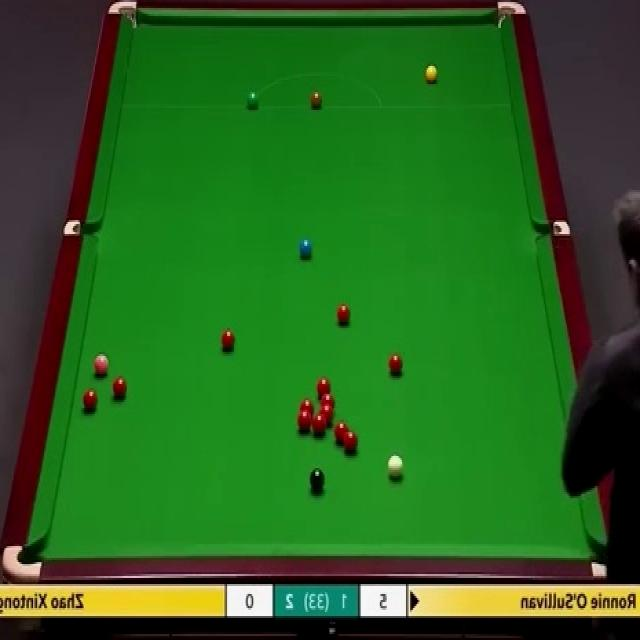black-ball: (309, 467, 326, 491)
blue-ball: (298, 238, 312, 259)
brown-ball: (310, 90, 324, 110)
green-ball: (244, 91, 260, 110)
pink-ball: (92, 354, 110, 377)
red-ball: (82, 388, 99, 411), (112, 374, 127, 400), (220, 328, 237, 350), (342, 430, 358, 453), (319, 401, 335, 424), (336, 302, 351, 326), (388, 353, 403, 376), (296, 408, 311, 431), (317, 376, 331, 398), (333, 422, 347, 443), (320, 393, 336, 411), (312, 416, 326, 434), (300, 398, 314, 416)
white-ball: (387, 454, 403, 479)
yellow-ball: (426, 65, 438, 86)
